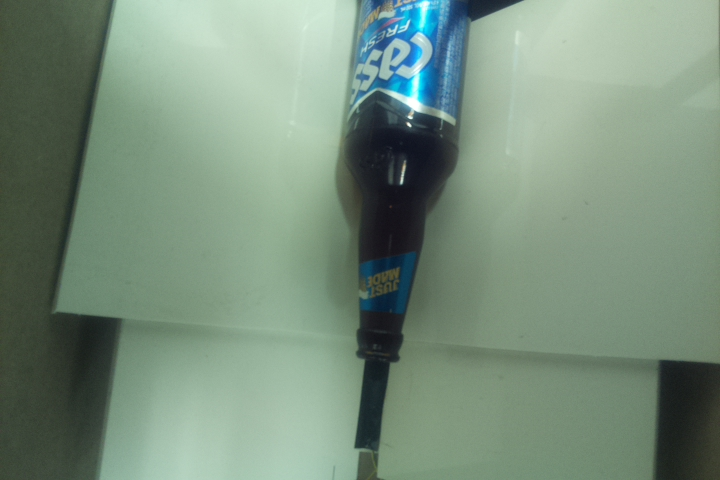makju: (336, 1, 475, 365)
